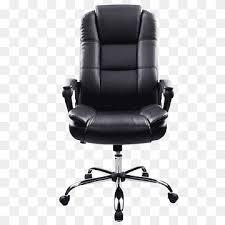chair: (58, 4, 179, 222)
